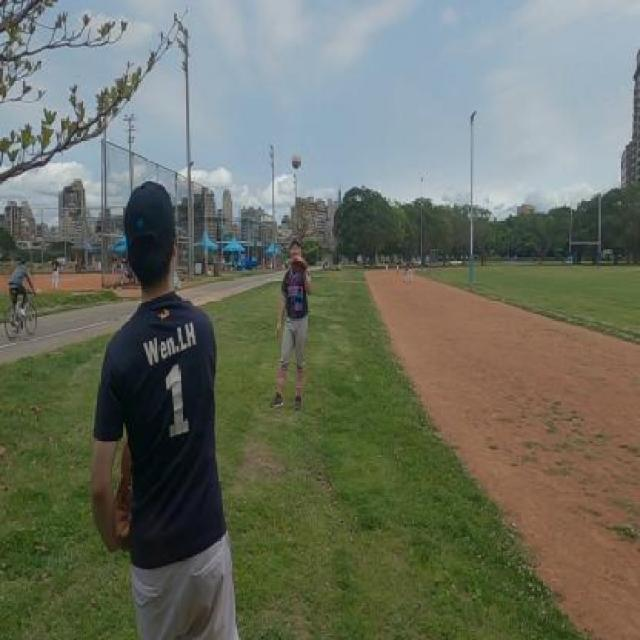baseball: (292, 153, 300, 170)
